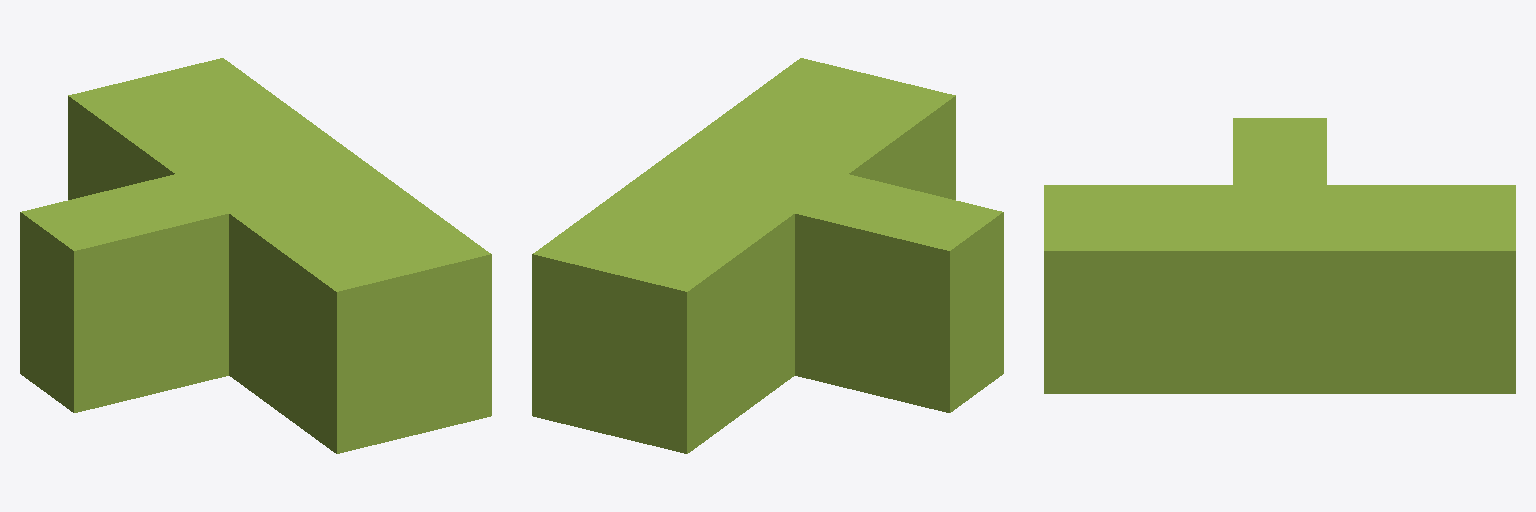
robot.urdf — convex_object:
<?xml version="1.0" ?>
<robot name="convex_object">
  <material name="color">
    <color rgba="0.64 0.76 0.34 1"/>
  </material>

  <link name="base_link">
    <contact>
      <lateral_friction value="1.0"/>
      <rolling_friction value="0.001"/>
      <spinning_friction value="0.001"/>
      <inertia_scaling value="1.0"/>
    </contact>

    <inertial>
      <origin rpy="0 0 0" xyz=".05 .05 .025"/>
       <mass value="0.5"/>
       <inertia ixx="1" ixy="0" ixz="0" iyy="1" iyz="0" izz="1"/>
    </inertial>

    <collision>
      <origin rpy="0 0 0" xyz="0 0 0"/>
      <geometry>
        <box size=".05 .025 .05"/>
      </geometry>
    </collision>
    <collision>
      <origin rpy="0 0 0" xyz=".05 0 0"/>
      <geometry>
        <box size=".05 .05 .05"/>
      </geometry>
    </collision>
    <collision>
      <origin rpy="0 0 0" xyz=".05 .05 0"/>
      <geometry>
        <box size=".05 .05 .05"/>
      </geometry>
    </collision>
    <collision>
      <origin rpy="0 0 0" xyz=".05 -.05 0"/>
      <geometry>
        <box size=".05 .05 .05"/>
      </geometry>
    </collision>

    <visual>
      <origin rpy="0 0 0" xyz="0 0 0"/>
      <geometry>
        <box size=".05 .03 .05"/>
      </geometry>
      <material name="color"/>
    </visual>
    <visual>
      <origin rpy="0 0 0" xyz=".05 0 0"/>
      <geometry>
        <box size=".05 .05 .05"/>
      </geometry>
      <material name="color"/>
    </visual>
    <visual>
      <origin rpy="0 0 0" xyz=".05 .05 0"/>
      <geometry>
        <box size=".05 .05 .05"/>
      </geometry>
      <material name="color"/>
    </visual>
    <visual>
      <origin rpy="0 0 0" xyz=".05 -.05 0"/>
      <geometry>
        <box size=".05 .05 .05"/>
      </geometry>
      <material name="color"/>
    </visual>

  </link>
</robot>

--- What the picture shows (computed from the rendered views, not written in the file) ---
Views: 3 orthographic renders of the robot side by side, from view 1: azimuth 30°, elevation 25°; view 2: azimuth 150°, elevation 25°; view 3: azimuth 270°, elevation 25°.
Model convex_object with 1 links and 0 joints (none), rooted at base_link, posed every joint at zero.
Visible links, largest first — view 1: base_link; view 2: base_link; view 3: base_link.
Boxes of the visible links, <box> form: base_link: <box>20,58,491,453</box>; base_link: <box>532,58,1003,453</box>; base_link: <box>1044,118,1515,393</box>.
Bounding box of the posed robot: 0.1 × 0.15 × 0.05 m (x, y, z).
Geometry: primitives only (box / cylinder / sphere), no mesh files.